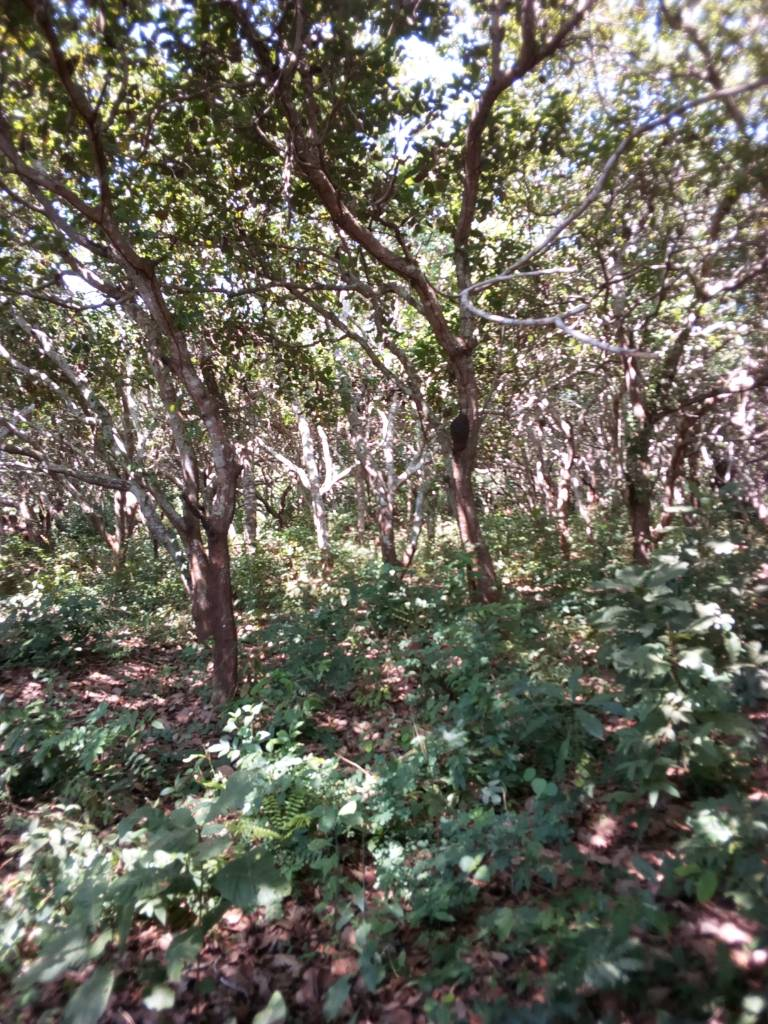Virose: (438, 408, 498, 472)
